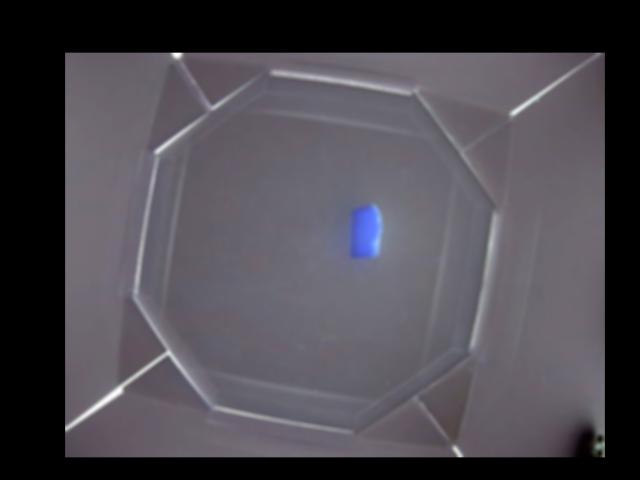Potato: (348, 202, 385, 258)
